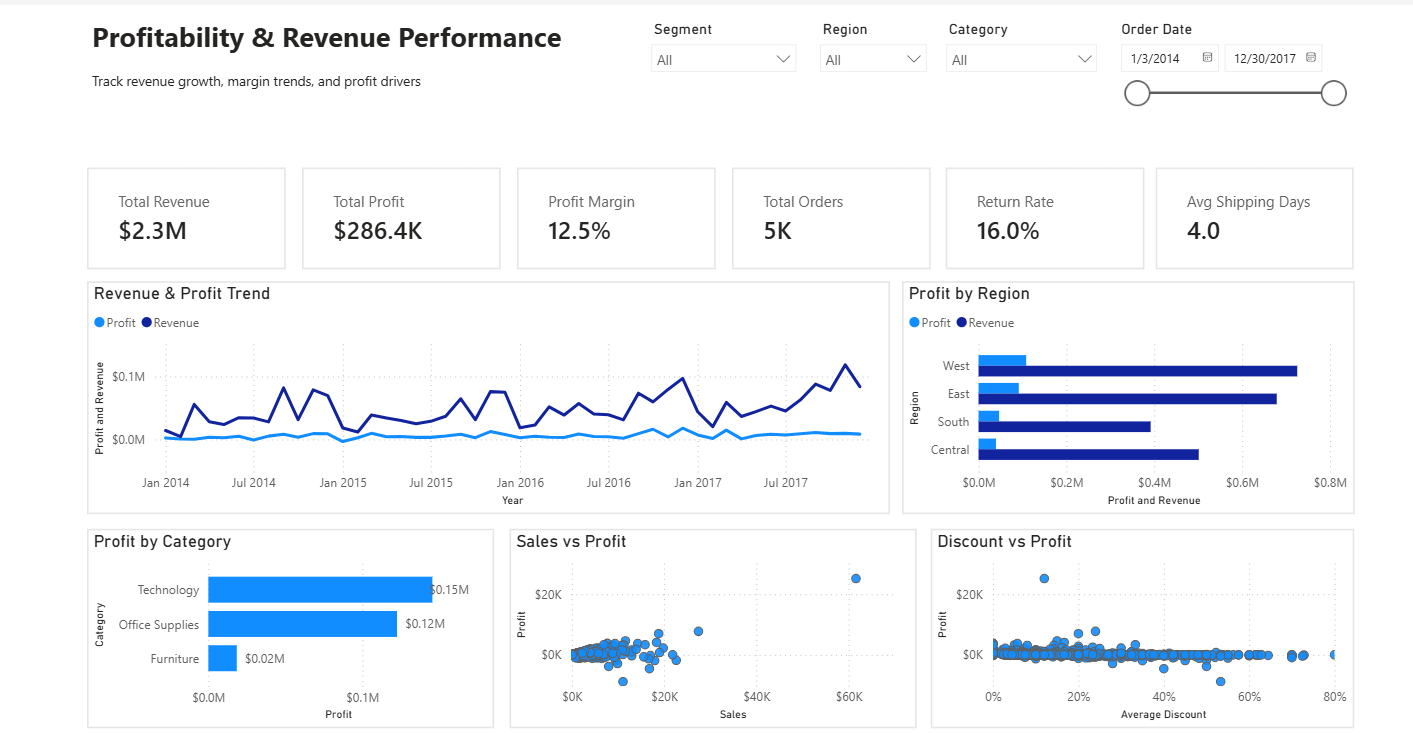

This screenshot's page, from the dashboard's own definition file:
{"tool":"powerbi","page":{"name":"Page 1","canvas":[1280,720],"ordinal":0},"visuals":[{"type":"cardVisual","fields":{"Data":["superstore_processed.Total Revenue"]},"box":[19.6,160.2,195,100.3],"z":0},{"type":"cardVisual","fields":{"Data":["superstore_processed.Total Profit"]},"box":[230.9,160.2,195,100.3],"z":1000},{"type":"cardVisual","fields":{"Data":["superstore_processed.Profit Margin"]},"box":[442.1,160.2,195,100.3],"z":2000},{"type":"cardVisual","fields":{"Data":["superstore_processed.Total Orders"]},"box":[652.9,160.2,195,100.3],"z":3000},{"type":"cardVisual","fields":{"Data":["superstore_processed.Return Rate"]},"box":[863.6,160.2,195,100.3],"z":4000},{"type":"lineChart","title":"Revenue & Profit Trend","fields":{"Category":["superstore_processed.Order Date.Variation.Date Hierarchy.Year","superstore_processed.Order Date.Variation.Date Hierarchy.Month"],"Y":["superstore_processed.Total Profit","superstore_processed.Total Revenue"]},"box":[20,271.2,788.8,228.8],"z":5000},{"type":"clusteredBarChart","title":"Profit by Category","fields":{"Category":["superstore_processed.Category"],"Y":["superstore_processed.Total Profit"]},"box":[20,515,400,196.2],"z":6000},{"type":"scatterChart","title":"Sales vs Profit","fields":{"X":["Sum(superstore_processed.Sales)"],"Y":["Sum(superstore_processed.Profit)"],"Category":["superstore_processed.Product Name"]},"box":[434.4,515,400,196],"z":7000},{"type":"scatterChart","title":"Discount vs Profit","fields":{"X":["Avg(superstore_processed.Discount)"],"Y":["Sum(superstore_processed.Profit)"],"Category":["superstore_processed.Product Name"]},"box":[848.8,515,416.2,196],"z":8000},{"type":"clusteredBarChart","title":"Profit by Region","fields":{"Category":["superstore_processed.Region"],"Y":["superstore_processed.Total Profit","superstore_processed.Total Revenue"]},"box":[820,271.2,445,228.8],"z":9000},{"type":"slicer","fields":{"Values":["superstore_processed.Region"]},"box":[728.8,10,125,85],"z":10000},{"type":"slicer","fields":{"Values":["superstore_processed.Segment"]},"box":[563.8,10,162.5,67.5],"z":11000},{"type":"slicer","fields":{"Values":["superstore_processed.Category"]},"box":[853.8,10,168.8,85],"z":12000},{"type":"slicer","fields":{"Values":["superstore_processed.Order Date"]},"box":[1022.5,10,242.5,150],"z":13000},{"type":"textbox","box":[20,7.5,543.8,115],"z":14000},{"type":"cardVisual","fields":{"Data":["superstore_processed.Avg Shipping Days"]},"box":[1070,160.2,194.4,100.3],"z":15000}]}

Visuals, with their boxes on the page's 1280x720 design canvas (x1, y1, x2, y2). These are canvas units, not pixel positions in the 1413x733 screenshot, which may show the page scaled, cropped or inside an application window:
cardVisual - superstore_processed.Total Revenue: <box>20,160,215,260</box>
cardVisual - superstore_processed.Total Profit: <box>231,160,426,260</box>
cardVisual - superstore_processed.Profit Margin: <box>442,160,637,260</box>
cardVisual - superstore_processed.Total Orders: <box>653,160,848,260</box>
cardVisual - superstore_processed.Return Rate: <box>864,160,1059,260</box>
"Revenue & Profit Trend" lineChart: <box>20,271,809,500</box>
"Profit by Category" clusteredBarChart: <box>20,515,420,711</box>
"Sales vs Profit" scatterChart: <box>434,515,834,711</box>
"Discount vs Profit" scatterChart: <box>849,515,1265,711</box>
"Profit by Region" clusteredBarChart: <box>820,271,1265,500</box>
slicer - superstore_processed.Region: <box>729,10,854,95</box>
slicer - superstore_processed.Segment: <box>564,10,726,78</box>
slicer - superstore_processed.Category: <box>854,10,1023,95</box>
slicer - superstore_processed.Order Date: <box>1022,10,1265,160</box>
textbox: <box>20,8,564,122</box>
cardVisual - superstore_processed.Avg Shipping Days: <box>1070,160,1264,260</box>
